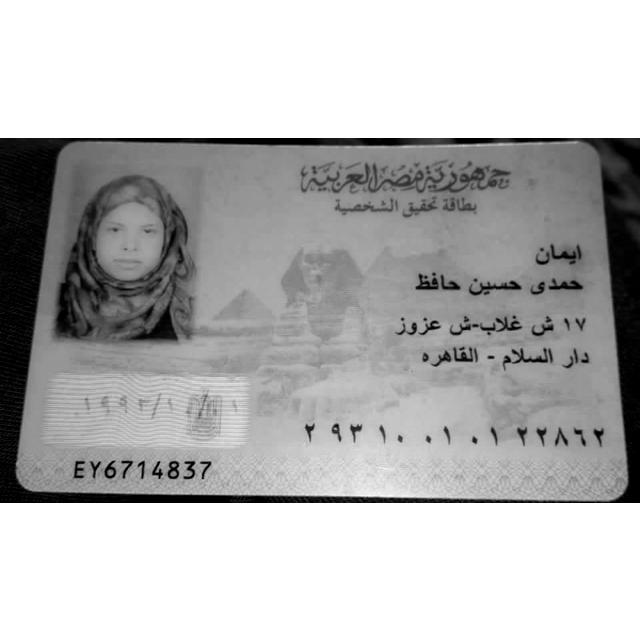id_card: (15, 140, 628, 500)
